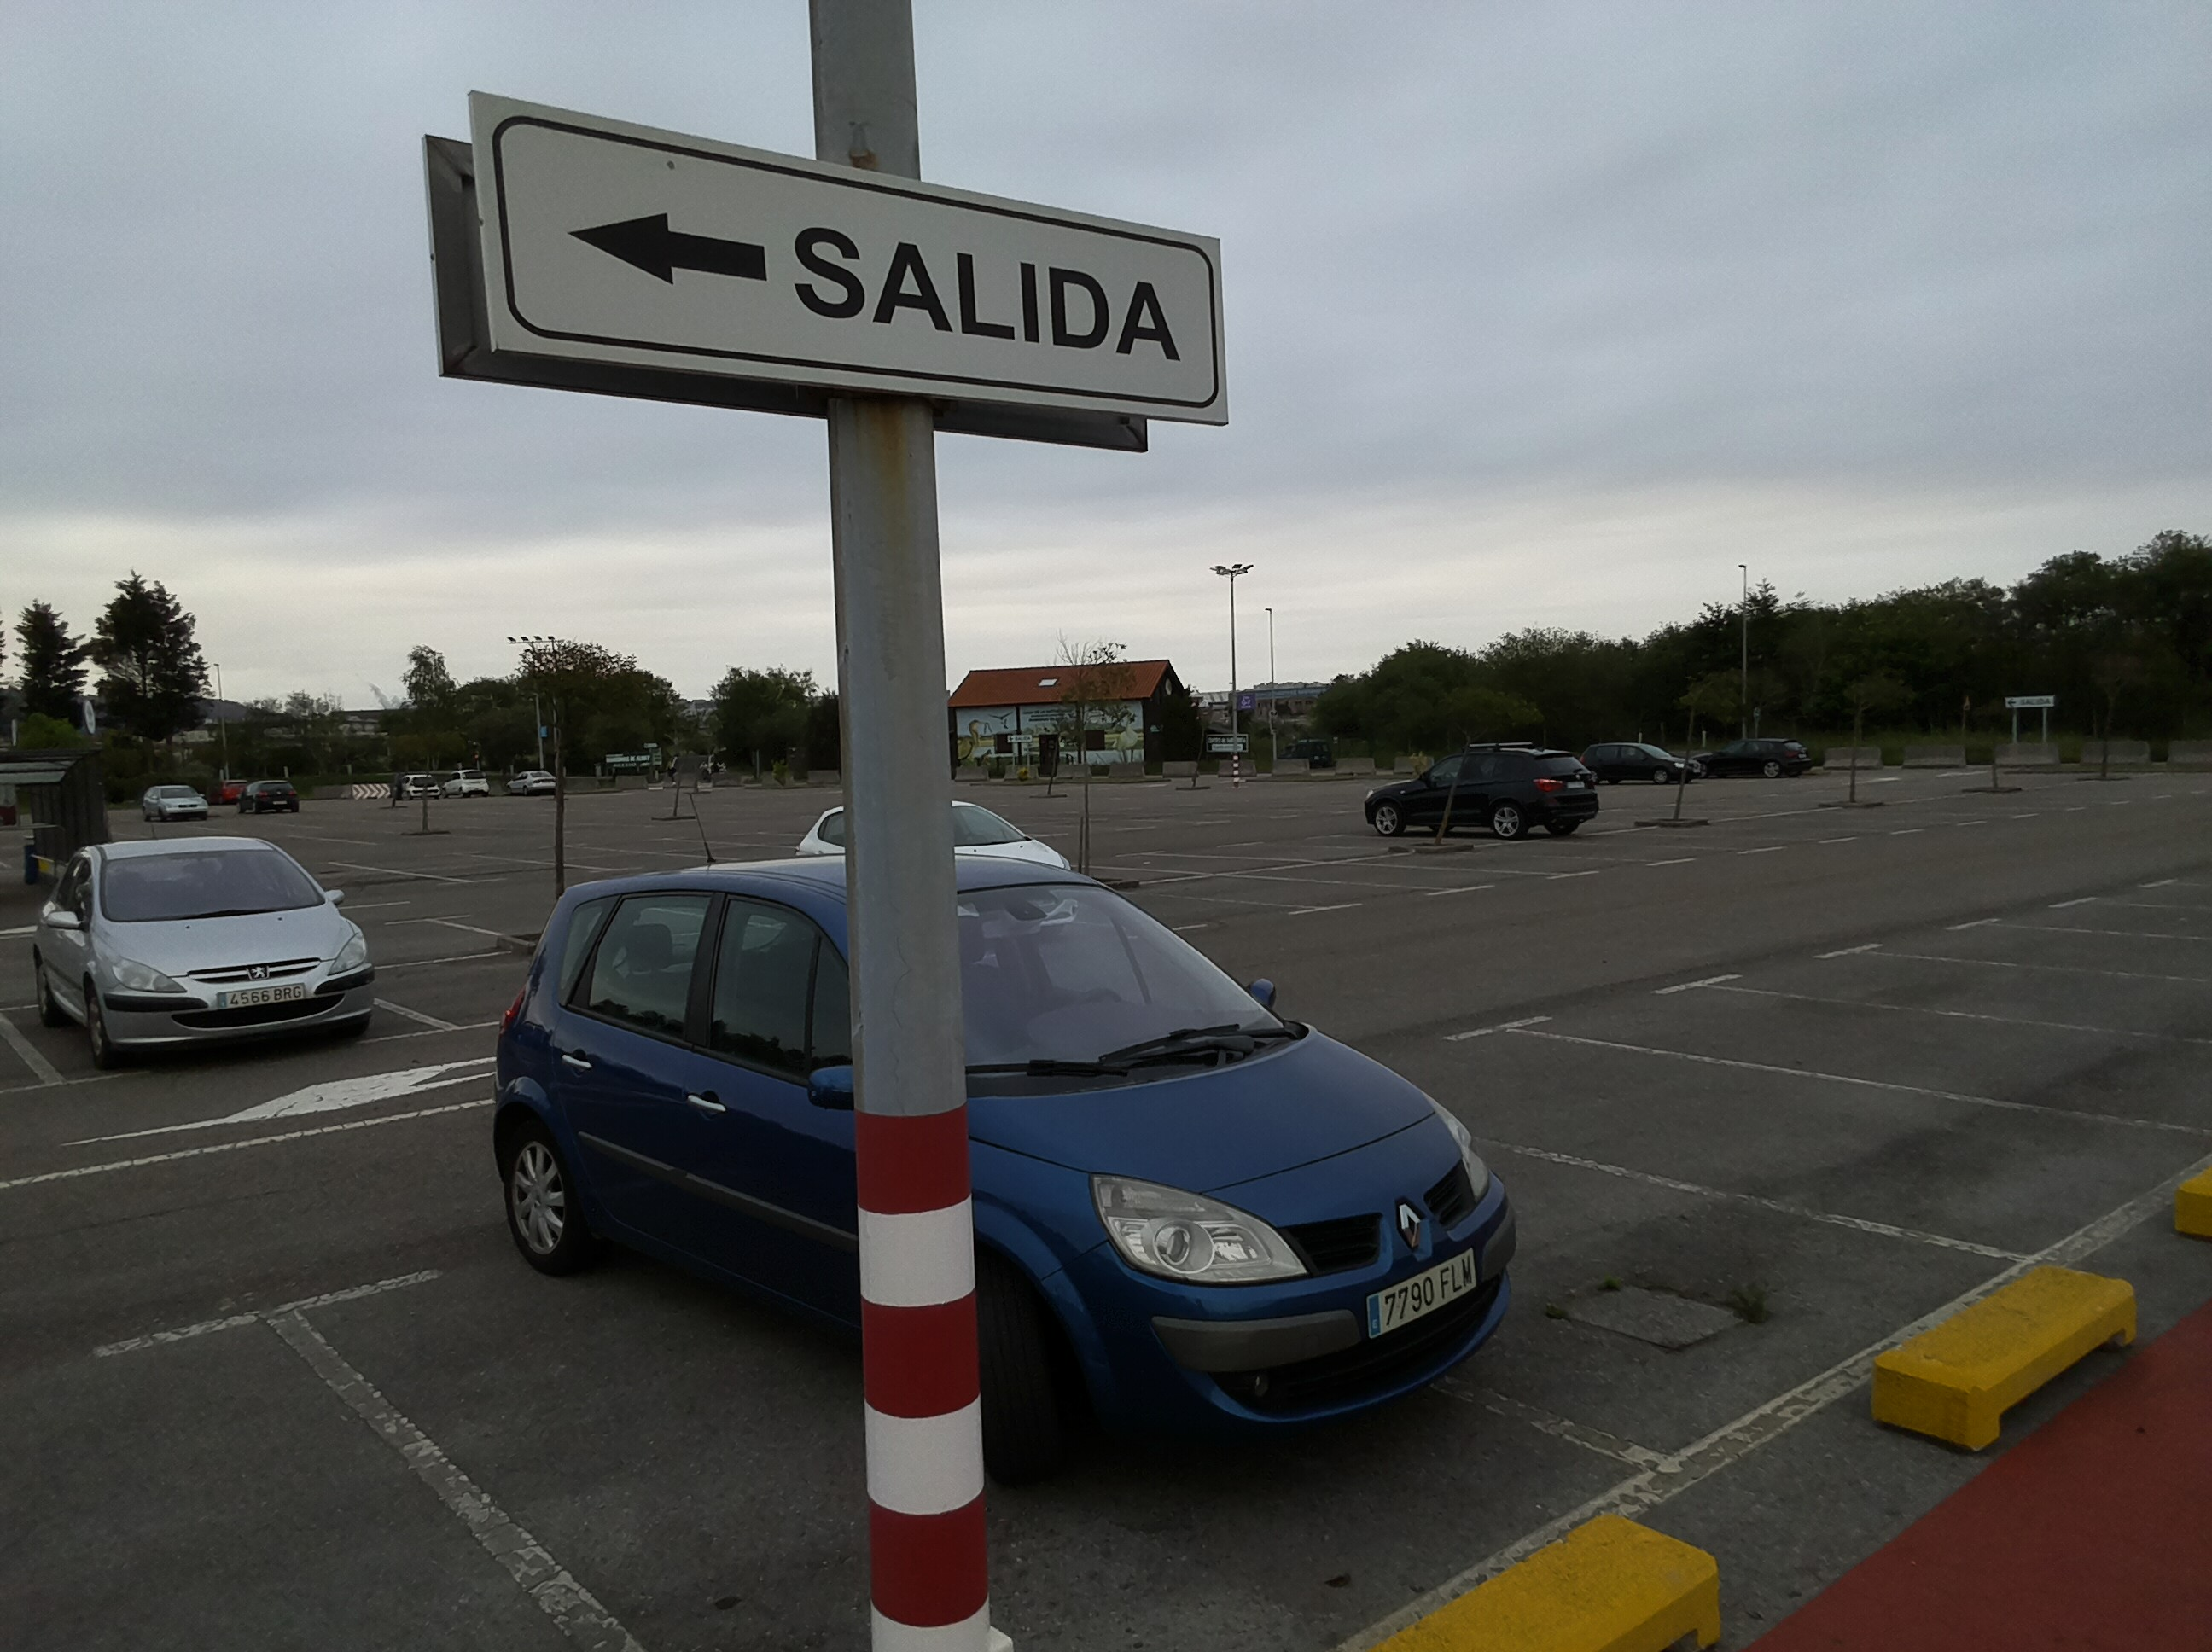Cartel: (399, 102, 1247, 449)
Poste: (749, 0, 1037, 1638)
Vehiculo: (460, 843, 1561, 1468), (21, 826, 396, 1076)
